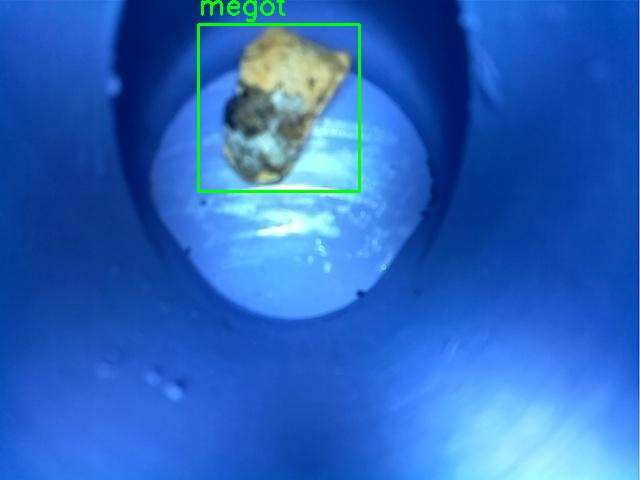megot: (198, 24, 359, 191)
